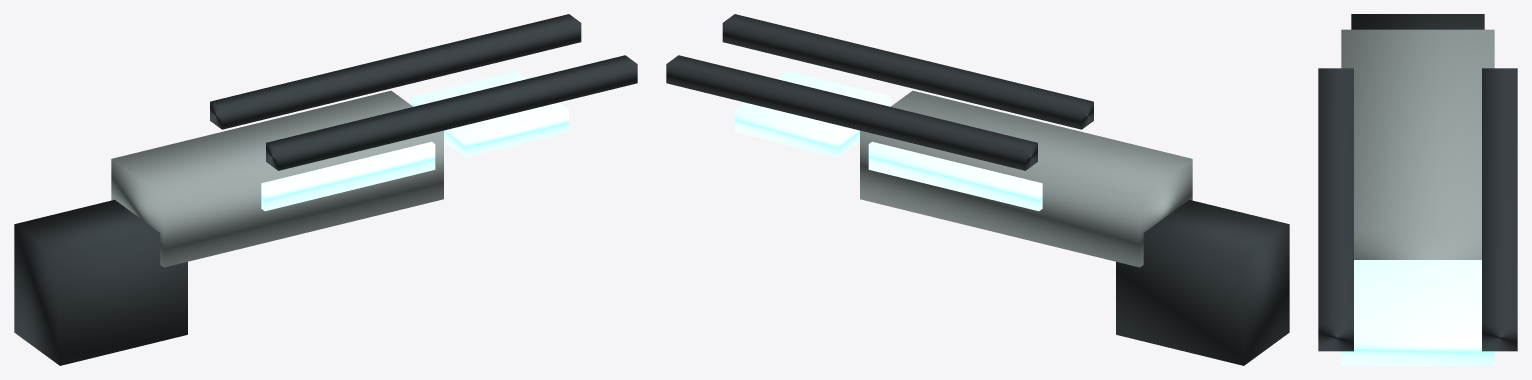
The model's file is weapon-rail-lod1.glb.
3 views of the same model, side by side, from view 1: azimuth 30°, elevation 25°; view 2: azimuth 150°, elevation 25°; view 3: azimuth 270°, elevation 25° (orthographic). The views are drawn at different scales.
Visible parts, largest first — view 1: rail-receiver, rail-capacitor, rail-upper-spine, rail-lower-spine, rail-coil, rail-coil-forward; view 2: rail-receiver, rail-capacitor, rail-lower-spine, rail-upper-spine, rail-coil, rail-coil-forward; view 3: rail-receiver, rail-coil-forward, rail-upper-spine, rail-lower-spine, rail-capacitor.
Boxes of the visible parts, left/top/right/bottom form: rail-receiver: left=111, top=90, right=443, bottom=267; rail-capacitor: left=14, top=199, right=187, bottom=365; rail-upper-spine: left=266, top=55, right=637, bottom=170; rail-lower-spine: left=210, top=14, right=581, bottom=129; rail-coil: left=261, top=141, right=435, bottom=211; rail-coil-forward: left=412, top=71, right=568, bottom=157; rail-receiver: left=860, top=90, right=1192, bottom=267; rail-capacitor: left=1116, top=199, right=1289, bottom=365; rail-lower-spine: left=666, top=55, right=1037, bottom=170; rail-upper-spine: left=722, top=14, right=1093, bottom=129; rail-coil: left=868, top=141, right=1042, bottom=211; rail-coil-forward: left=735, top=71, right=891, bottom=157; rail-receiver: left=1341, top=29, right=1494, bottom=259; rail-coil-forward: left=1341, top=260, right=1494, bottom=365; rail-upper-spine: left=1318, top=68, right=1353, bottom=351; rail-lower-spine: left=1482, top=68, right=1517, bottom=351; rail-capacitor: left=1351, top=14, right=1484, bottom=29.
Size of the model in its own units: 1.86 by 0.54 by 0.39.
